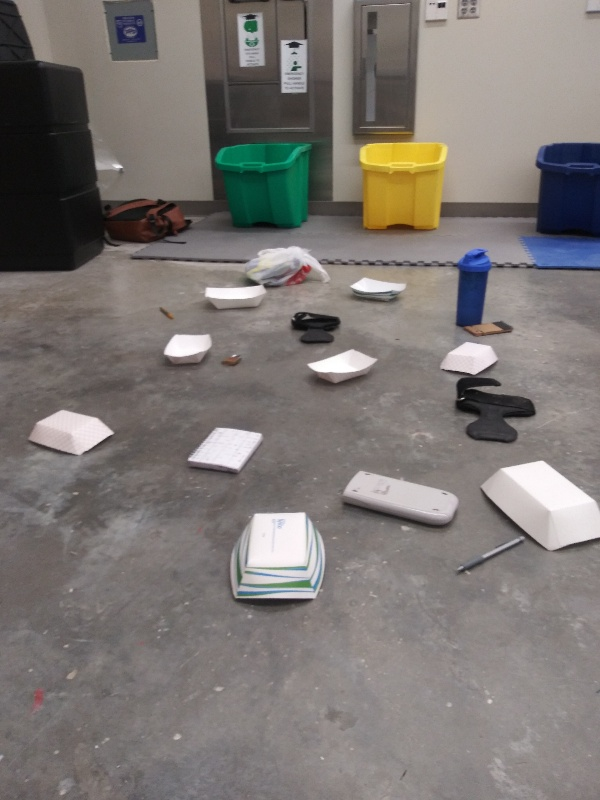plate: (476, 458, 600, 554), (227, 508, 328, 605), (24, 406, 119, 458), (305, 343, 386, 388), (434, 340, 502, 379), (200, 281, 271, 315), (159, 328, 214, 371), (344, 276, 414, 306)
